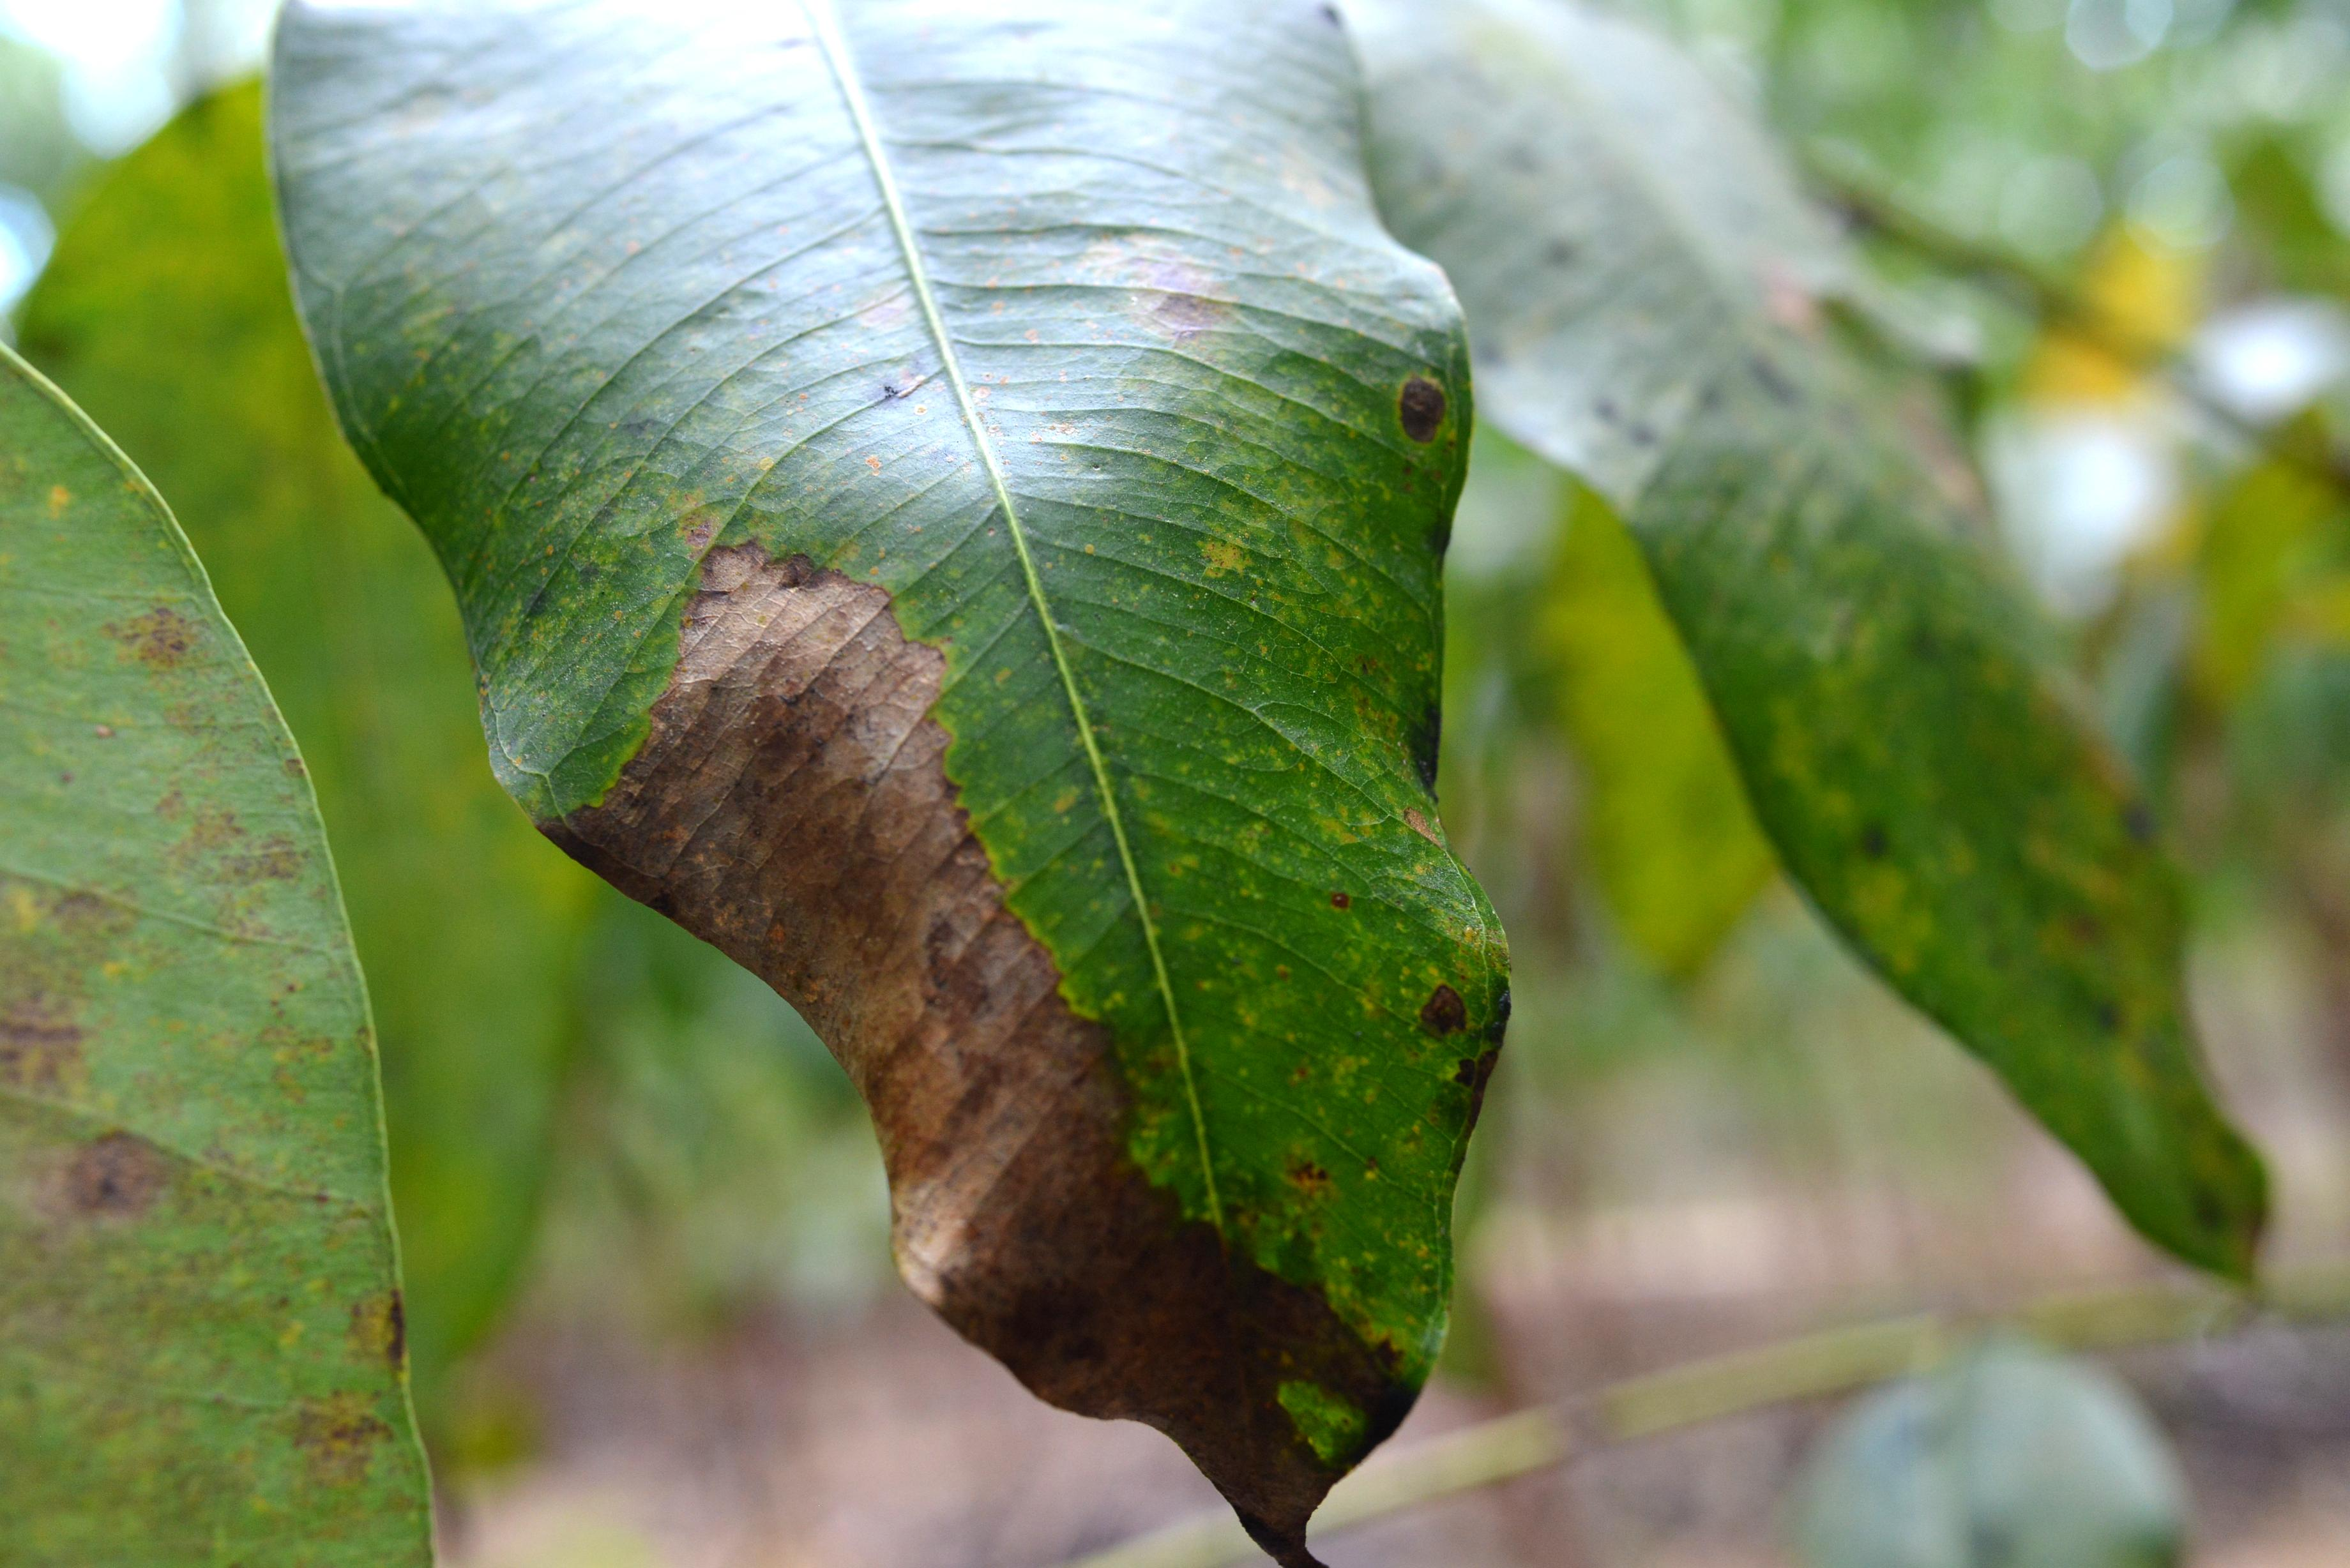Cylindrocladium: (569, 537, 1409, 1568)
